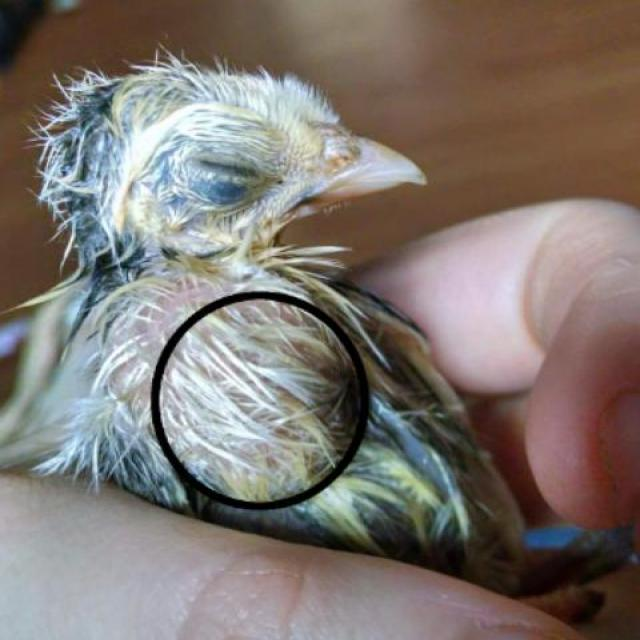Unhealthy: (34, 25, 488, 577)
